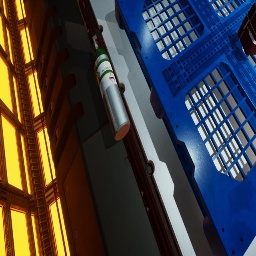0: (93, 39, 130, 141)
FirstAidBox ,: (237, 3, 256, 55)
